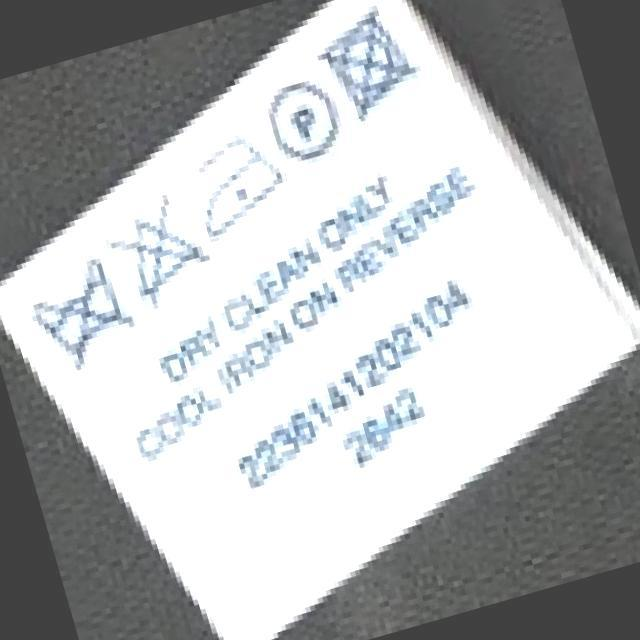DN_bleach: (123, 208, 204, 302)
DN_tumble_dry: (333, 17, 412, 117)
DN_wash: (36, 259, 129, 357)
dry_clean_any_solvent_except_trichloroethylene: (271, 80, 339, 164)
iron_low: (198, 142, 288, 240)
